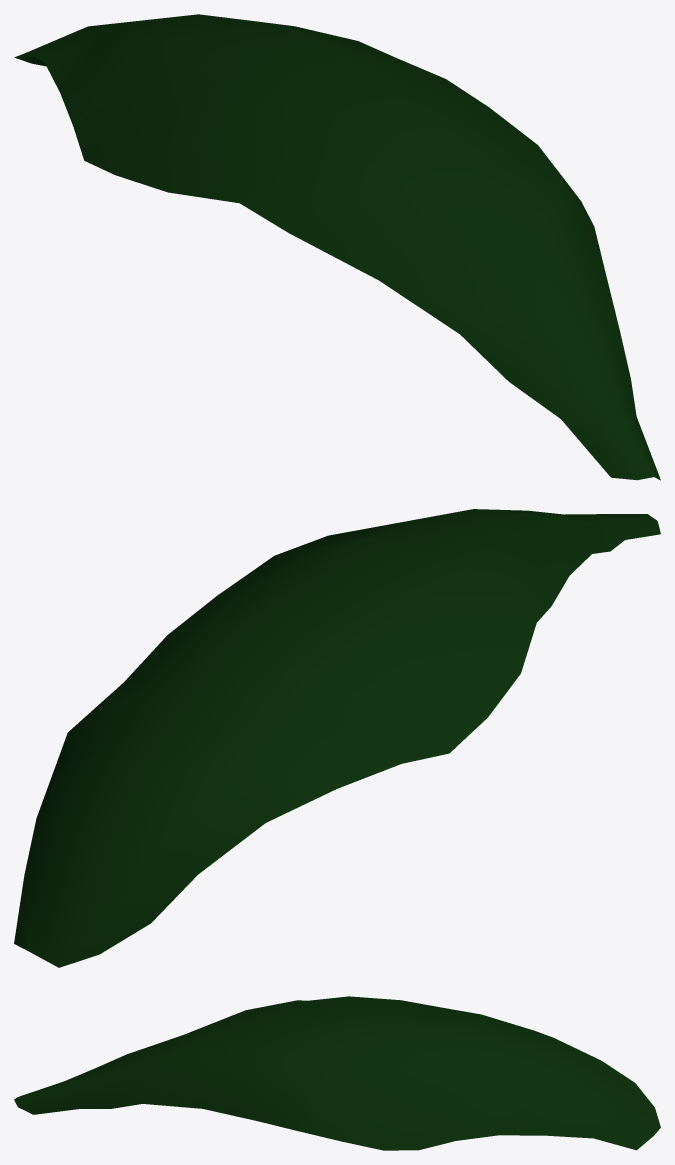
Rendered from leaf.FBX.
3 views of the same model, one above another, from view 1: azimuth 30°, elevation 25°; view 2: azimuth 150°, elevation 25°; view 3: azimuth 270°, elevation 25° (orthographic). The views are drawn at different scales.
Parts seen in each view (by area): view 1: leaf_big; view 2: leaf_big; view 3: leaf_big.
Boxes of the visible parts, box(x1,y1,x2,y2) form: leaf_big: box(14, 14, 660, 480); leaf_big: box(14, 509, 660, 967); leaf_big: box(14, 996, 660, 1150).
Bounding box in the file's own units: 0.4054 × 0.1989 × 1.06.
